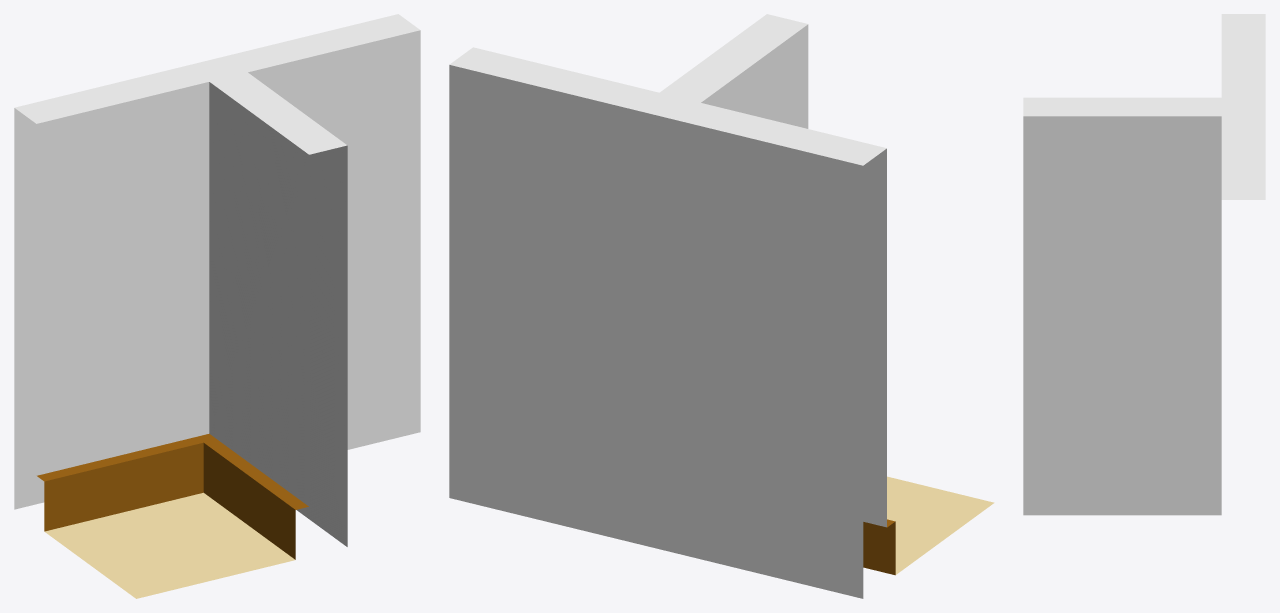
The model's file is E_Wall_T_Shape_Elevator_R.fbx.
3 views of the same model, side by side, from view 1: azimuth 30°, elevation 25°; view 2: azimuth 150°, elevation 25°; view 3: azimuth 270°, elevation 25° (orthographic). The views are drawn at different scales.
Parts seen in each view (by area): view 1: E_Wall_T_Shape_Elevator_R; view 2: E_Wall_T_Shape_Elevator_R; view 3: E_Wall_T_Shape_Elevator_R.
Boxes of the visible parts, left/top/right/bottom form: E_Wall_T_Shape_Elevator_R: left=14, top=14, right=420, bottom=598; E_Wall_T_Shape_Elevator_R: left=449, top=14, right=994, bottom=598; E_Wall_T_Shape_Elevator_R: left=1023, top=14, right=1265, bottom=515.
Size of the model in its own units: 200 by 200 by 110.
Materials: 1 (1 with a texture image).
